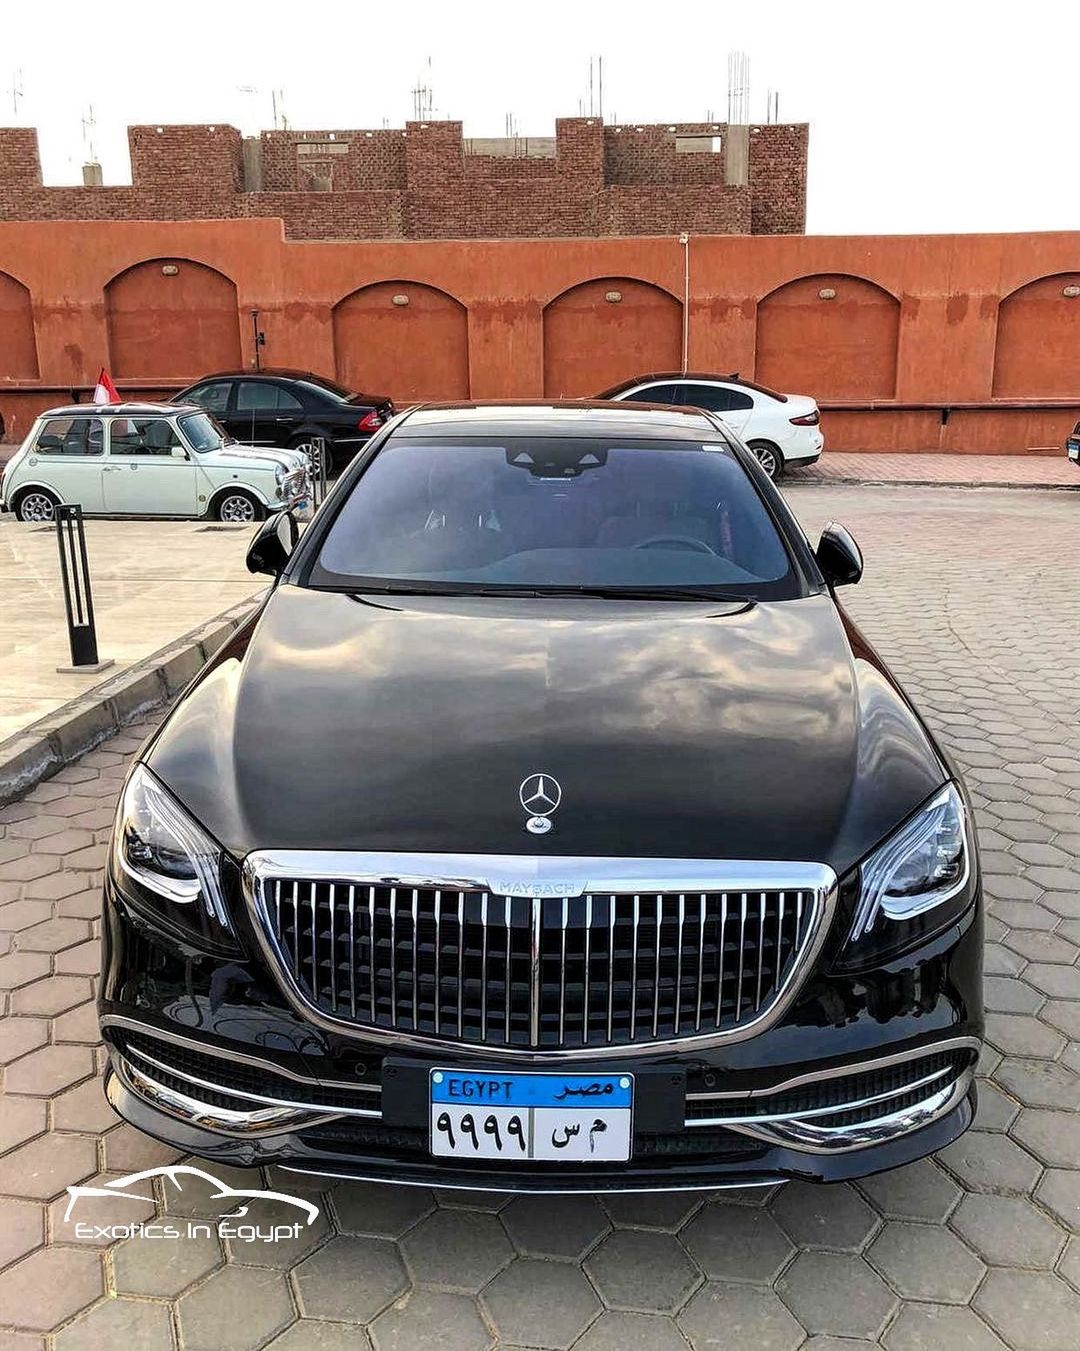carpl: (413, 1052, 643, 1174)
